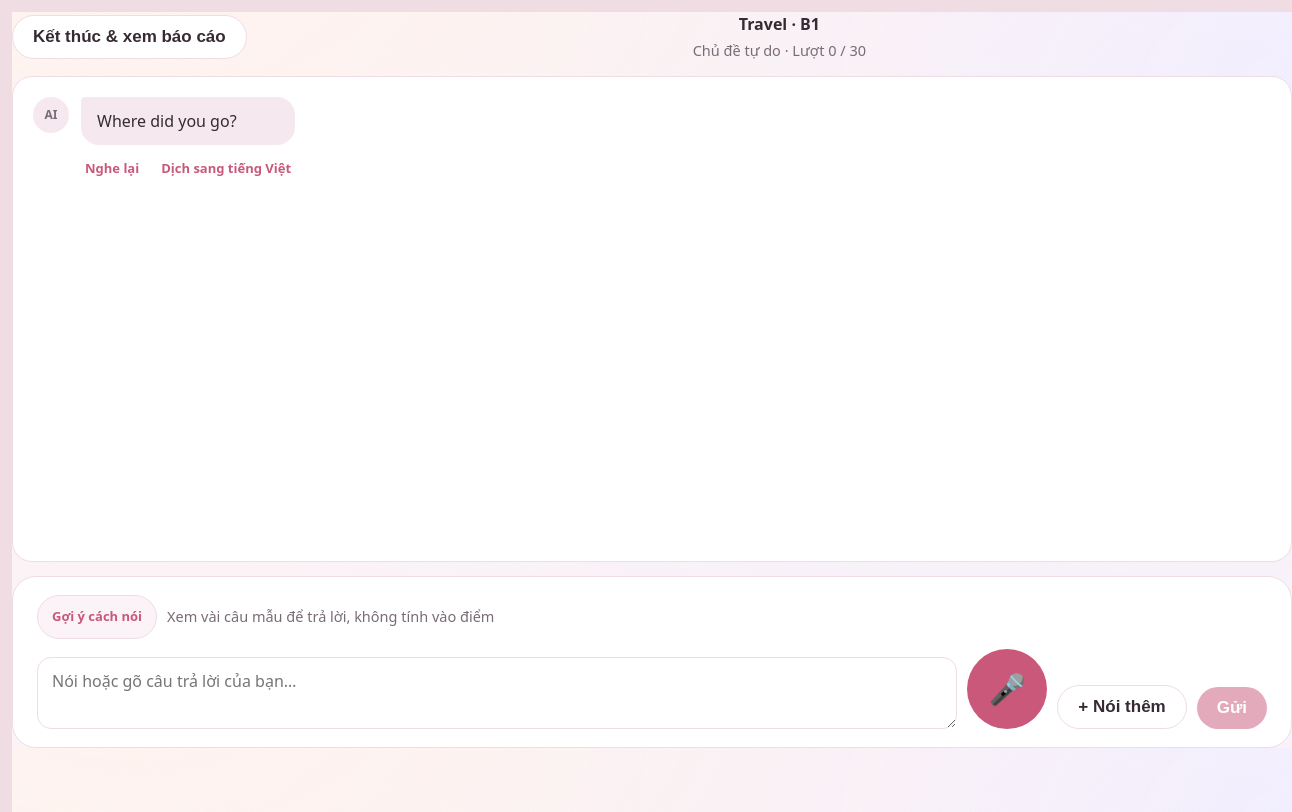
Test: ConversationSessionPage — own-voice recordings › does not keep a recording whose transcript came back empty
This screenshot has width=1292, height=812.
Click the button named "Bắt đầu ghi âm". click: (1007, 689)
box: left=967, top=649, right=1047, bottom=729
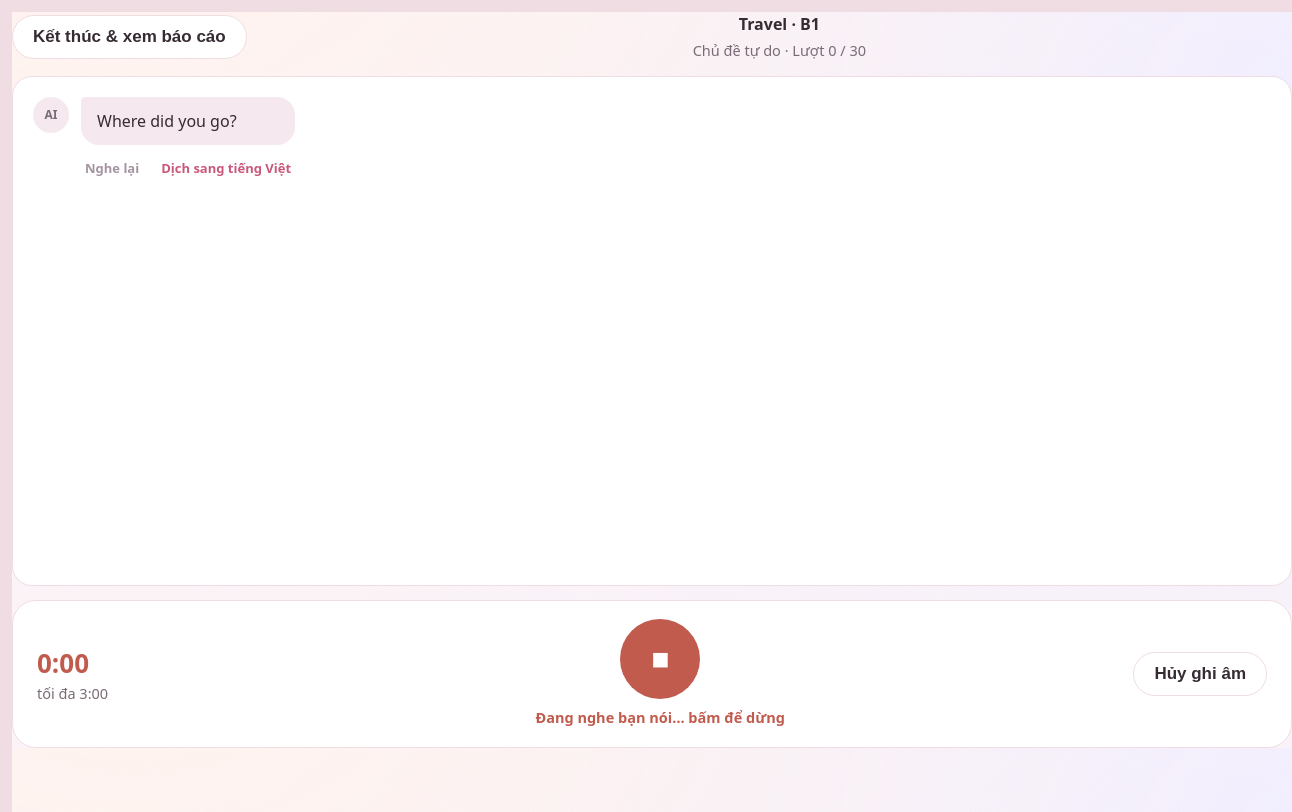
Click the button named "Dừng ghi âm". click: (660, 659)
box: left=620, top=619, right=700, bottom=699
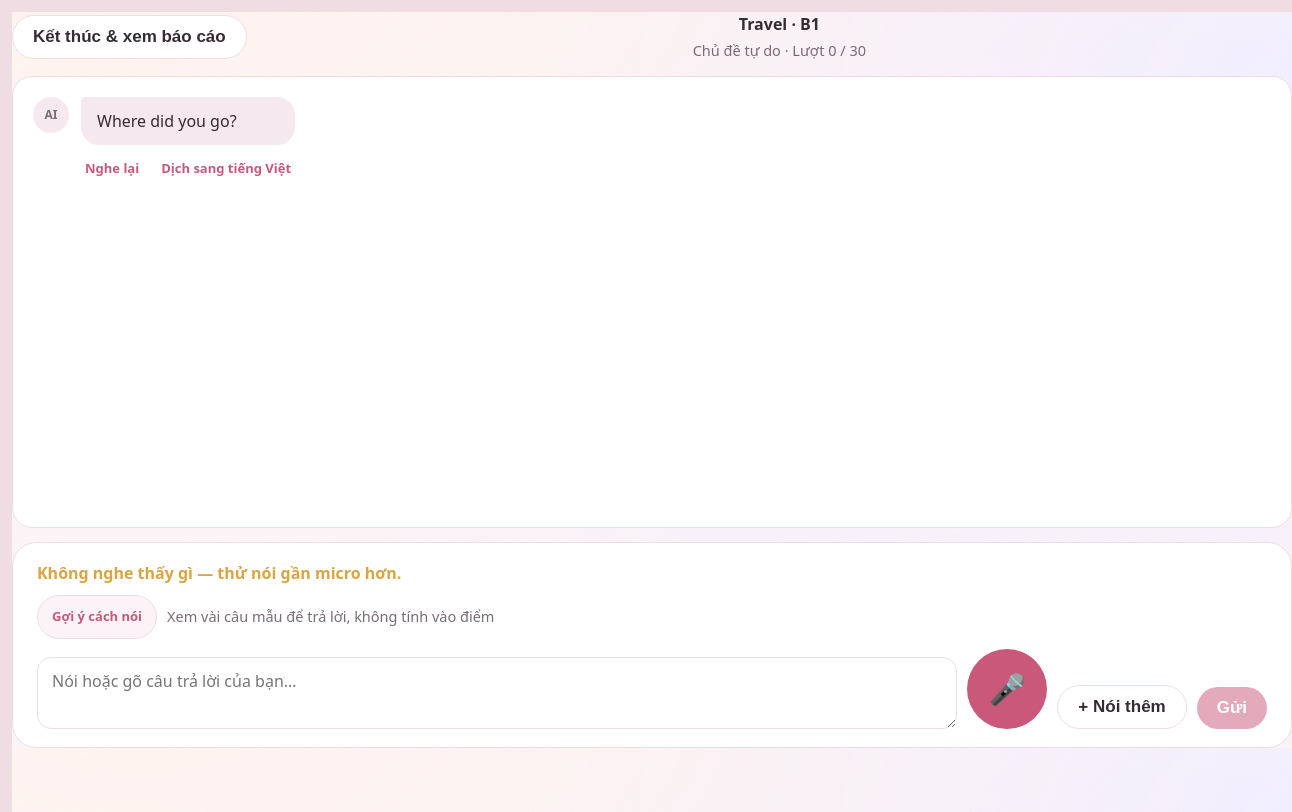
Expected: the button named "Bắt đầu ghi âm" is shown, left=967, top=649, right=1047, bottom=729
Type "Typed instead" into the text box labelled "câu trả lời của bạn". click: (497, 693)
box: left=37, top=657, right=957, bottom=729
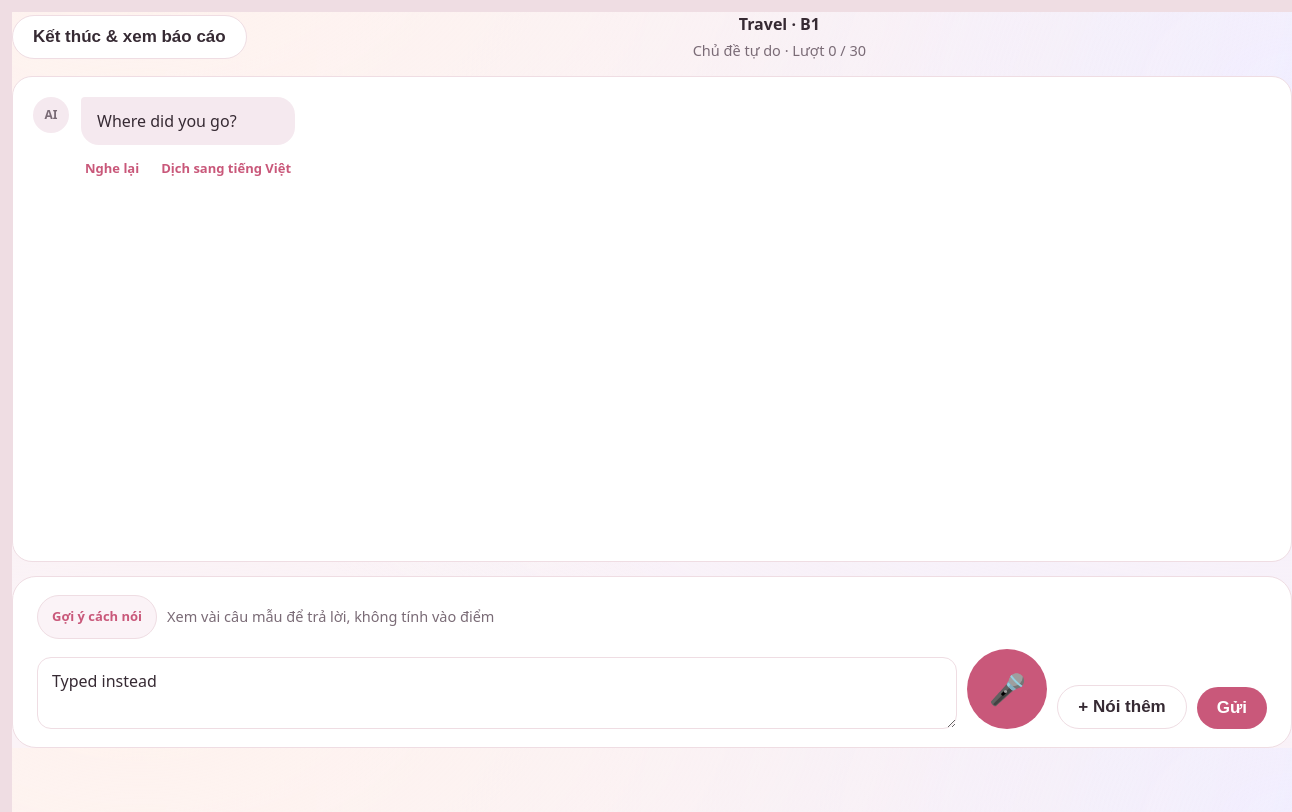
Click the button "Gửi". click: (1232, 708)
box: left=1197, top=687, right=1267, bottom=729
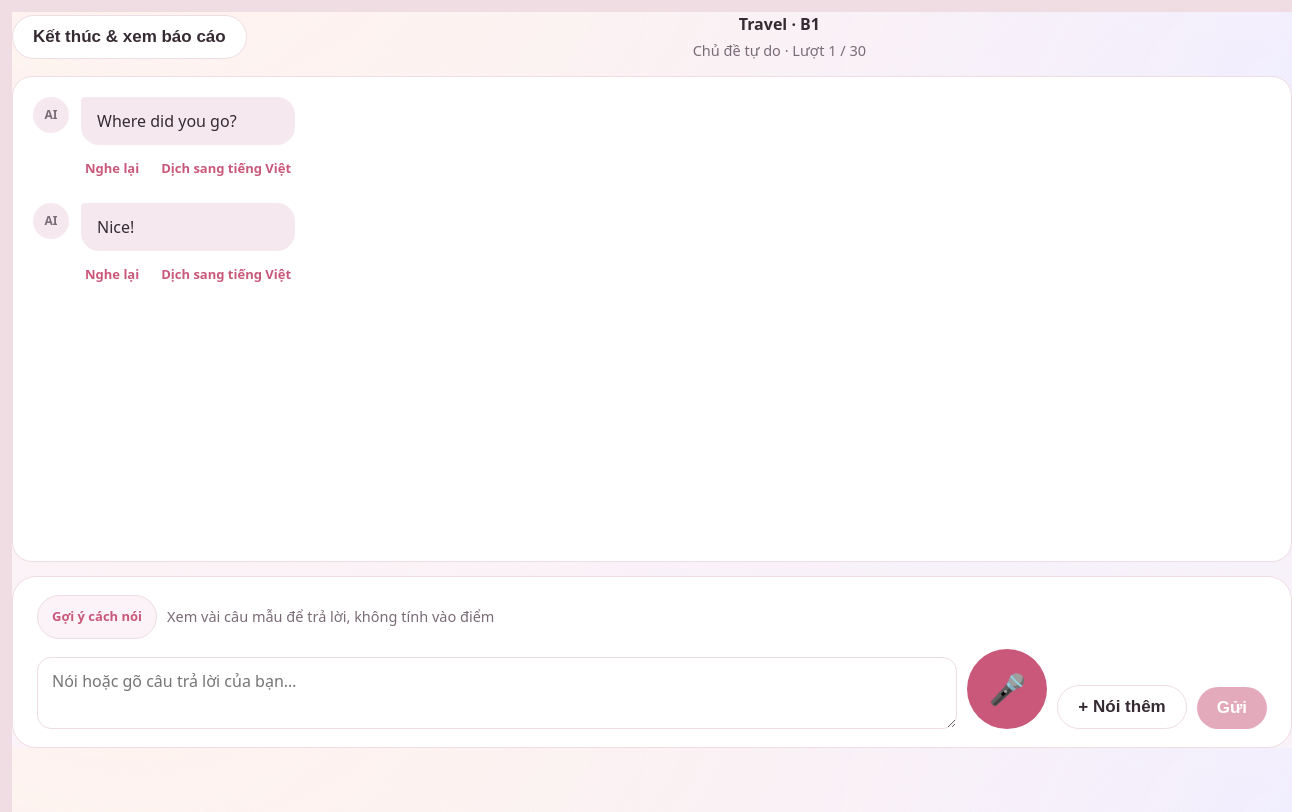
Expected: the text "Nice!" is shown, left=81, top=203, right=295, bottom=251
